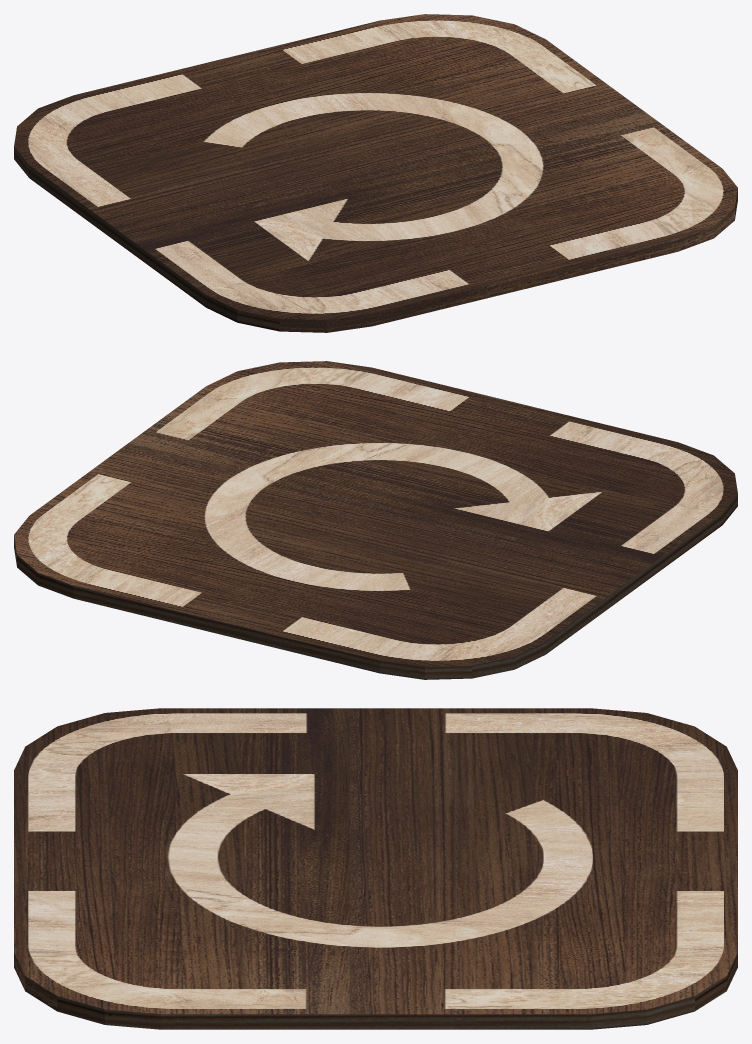
The model's file is rotation tile.fbx.
The picture shows the model from 3 angles, top to bottom: view 1: azimuth 30°, elevation 25°; view 2: azimuth 150°, elevation 25°; view 3: azimuth 270°, elevation 25°; orthographic projection. The views are drawn at different scales.
Visible parts, largest first — view 1: finish.001; view 2: finish.001; view 3: finish.001.
Boxes of the visible parts, left/top/right/bottom form: finish.001: left=14, top=14, right=737, bottom=332; finish.001: left=14, top=361, right=737, bottom=679; finish.001: left=14, top=708, right=737, bottom=1029.
Bounding box in the file's own units: 200 × 4.74 × 200.
